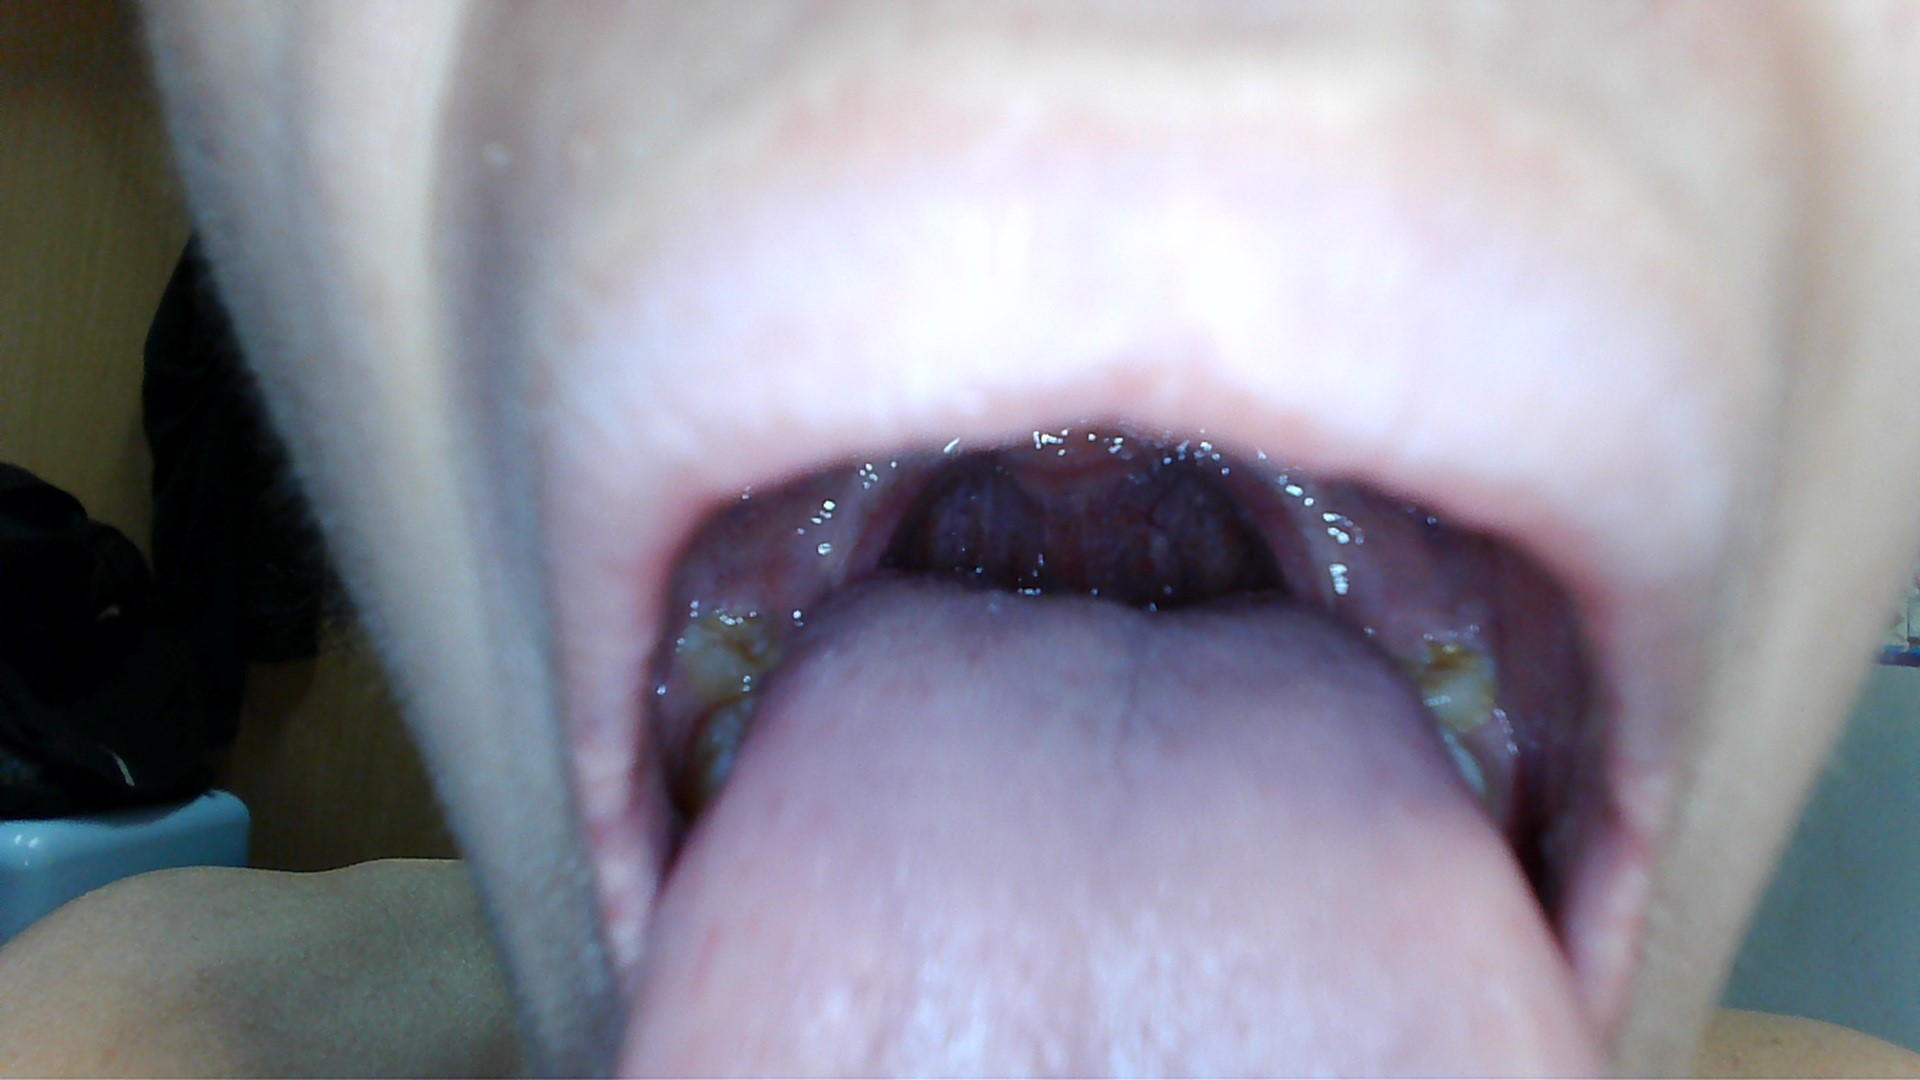throat: (1242, 476, 1342, 600), (822, 484, 914, 584)
